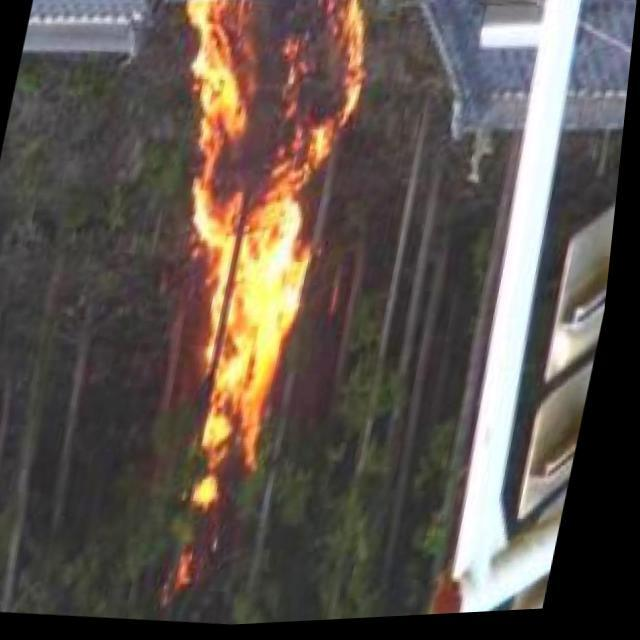fire: (100, 0, 380, 486)
